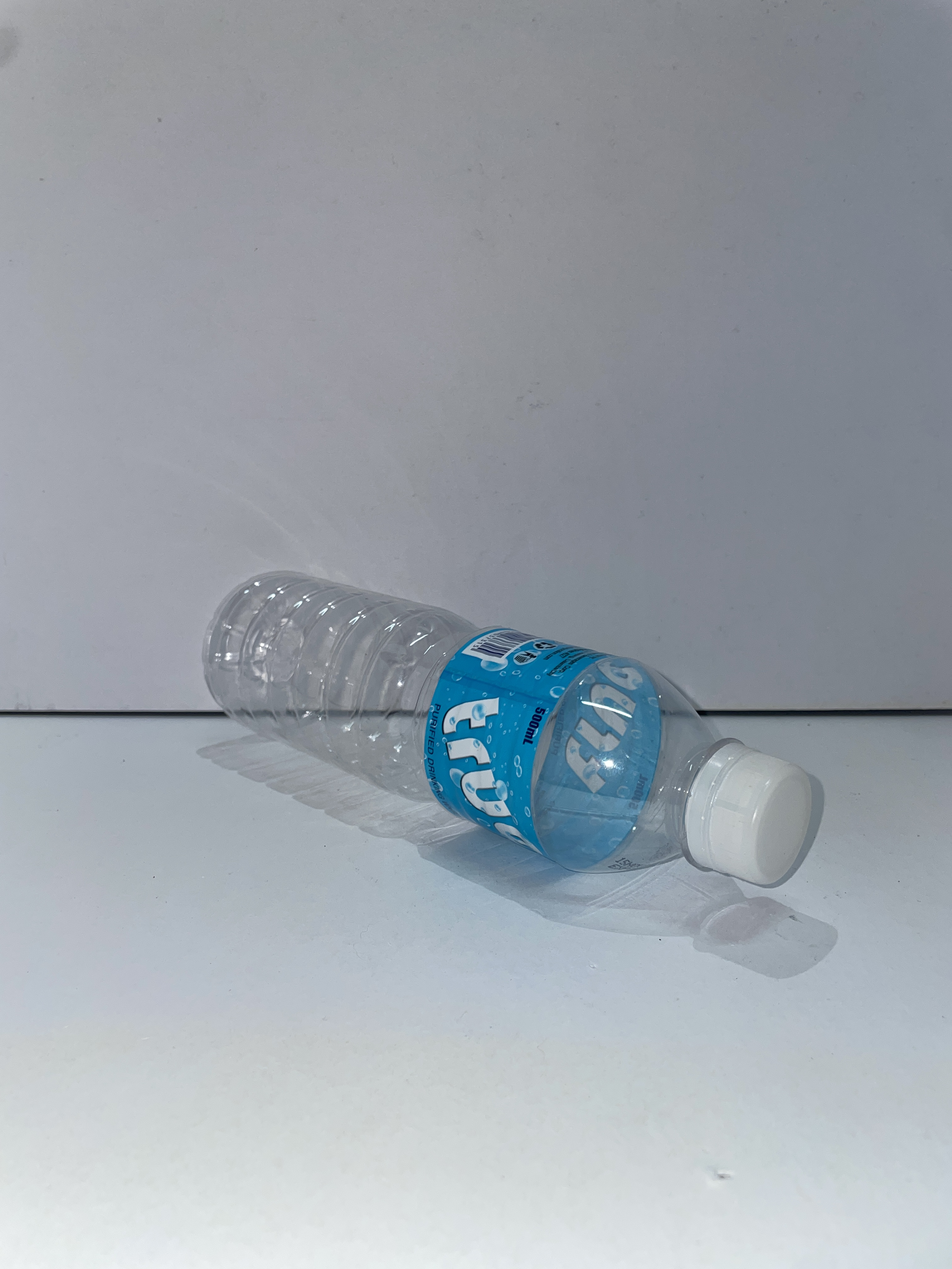True 500ml: (203, 573, 811, 884)
